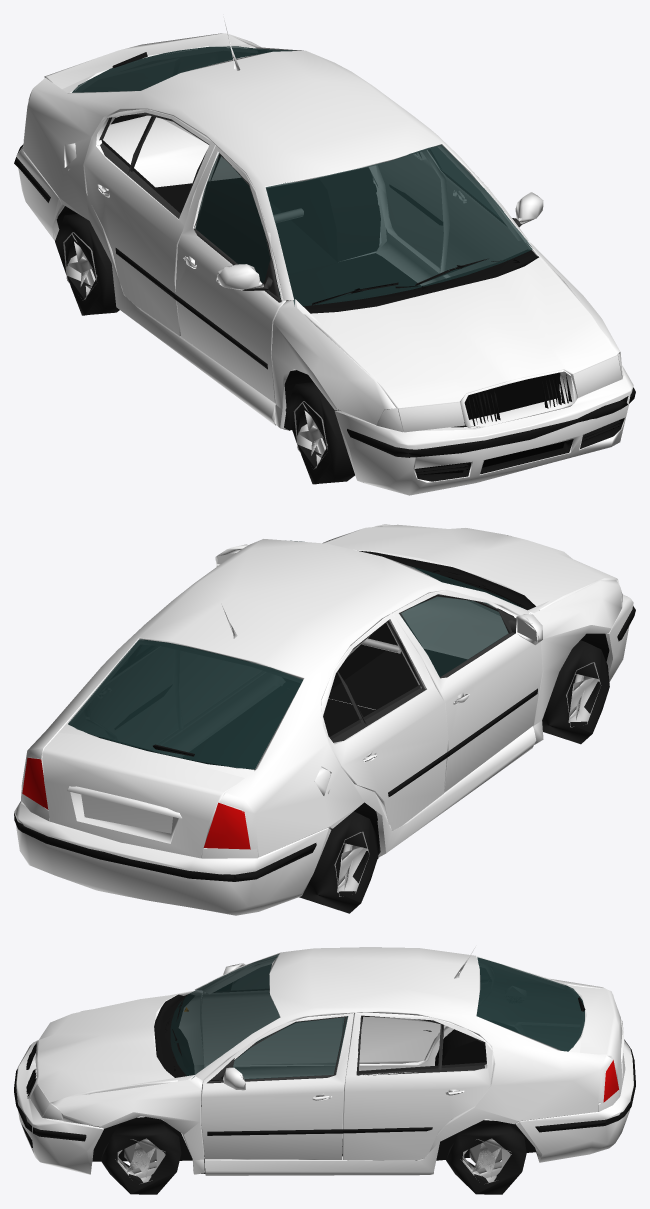
3 views of the same model, one above another, from view 1: azimuth 30°, elevation 25°; view 2: azimuth 150°, elevation 25°; view 3: azimuth 270°, elevation 25° (orthographic). The views are drawn at different scales.
Visible parts, largest first — view 1: body, glass, wheel_FL, wheel_RL; view 2: body, glass, wheel_RL, wheel_FL; view 3: body, glass, wheel_FR, wheel_RR.
Part boxes in pixels (bbox=[...]): body: bbox=[14, 20, 635, 495]; glass: bbox=[72, 46, 532, 306]; wheel_FL: bbox=[285, 382, 354, 484]; wheel_RL: bbox=[55, 213, 119, 315]; body: bbox=[14, 524, 635, 915]; glass: bbox=[68, 540, 523, 769]; wheel_RL: bbox=[299, 811, 378, 913]; wheel_FL: bbox=[542, 640, 609, 744]; body: bbox=[14, 947, 635, 1175]; glass: bbox=[170, 954, 584, 1079]; wheel_FR: bbox=[101, 1120, 181, 1194]; wheel_RR: bbox=[446, 1120, 526, 1194].
Bounding box in the file's own units: 2.04 × 1.65 × 4.57.
